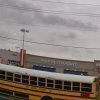Bus: (2, 57, 96, 100)
